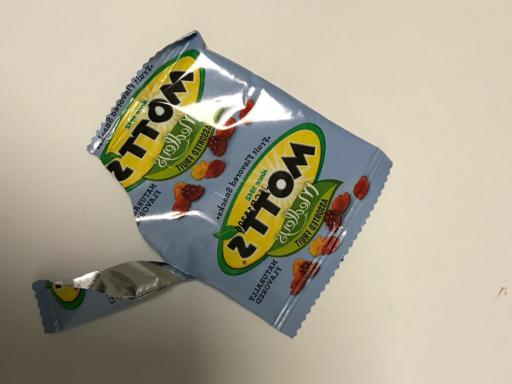paper: (27, 30, 394, 342)
trash: (31, 30, 395, 341)
